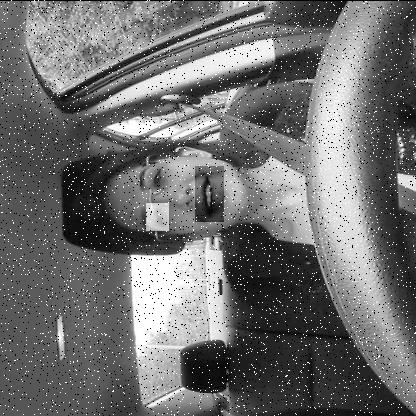seatbelt: (70, 124, 416, 256)
